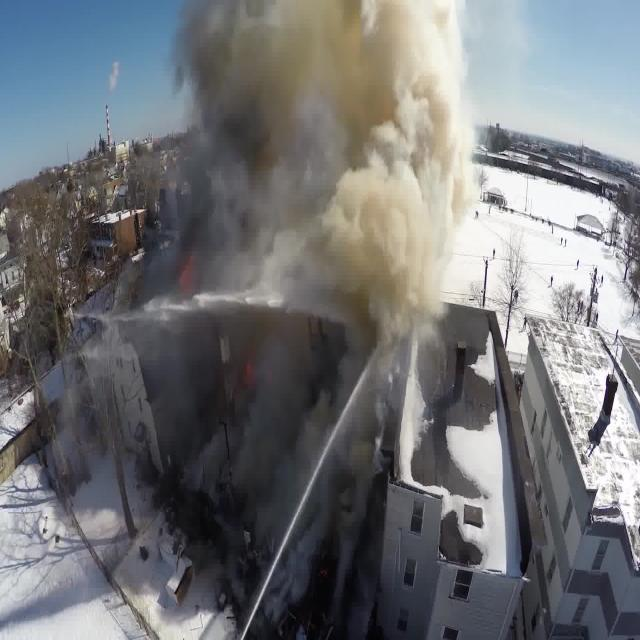Smoke: (204, 6, 446, 259)
